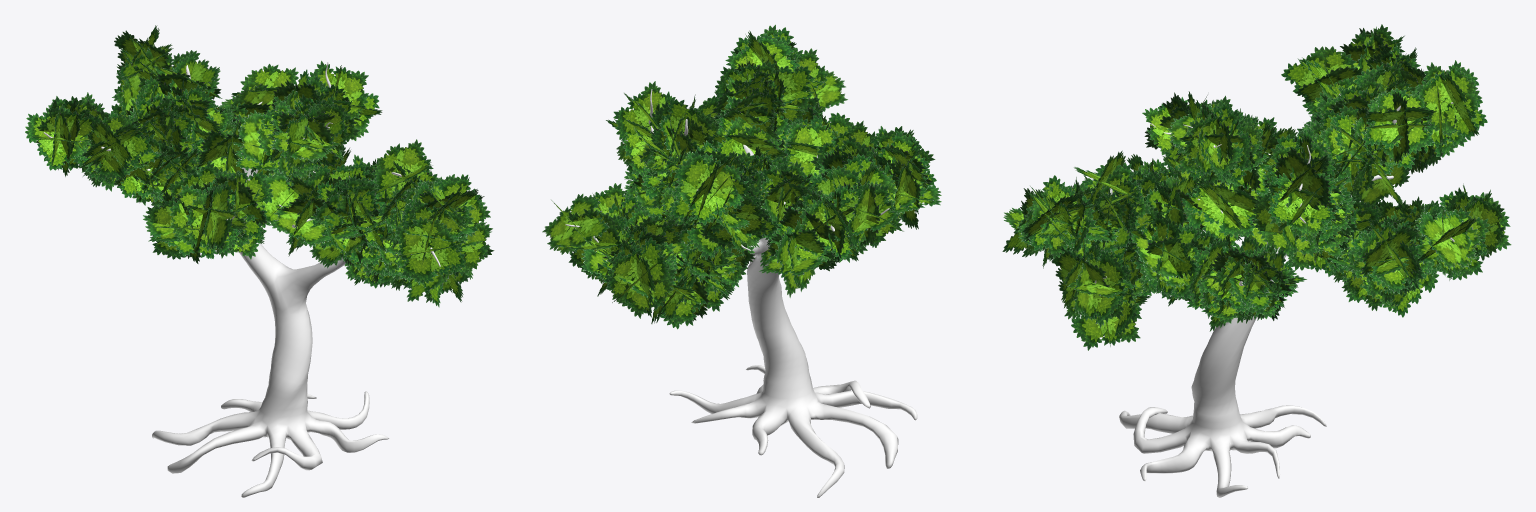
The model's file is treeWithLeaves.fbx.
The picture shows the model from 3 angles, left to right: view 1: azimuth 30°, elevation 25°; view 2: azimuth 150°, elevation 25°; view 3: azimuth 270°, elevation 25°; orthographic projection. The views are drawn at different scales.
Visible parts, largest first — view 1: treeLeaves, tree; view 2: treeLeaves, tree; view 3: treeLeaves, tree.
Part boxes in pixels (x1,y1,x2,y2): treeLeaves: (25,25,494,307); tree: (43,62,440,497); treeLeaves: (542,24,941,329); tree: (565,89,917,497); treeLeaves: (1002,24,1511,350); tree: (1094,94,1454,497).
Size of the model in its own units: 50.58 by 49.98 by 62.04.
